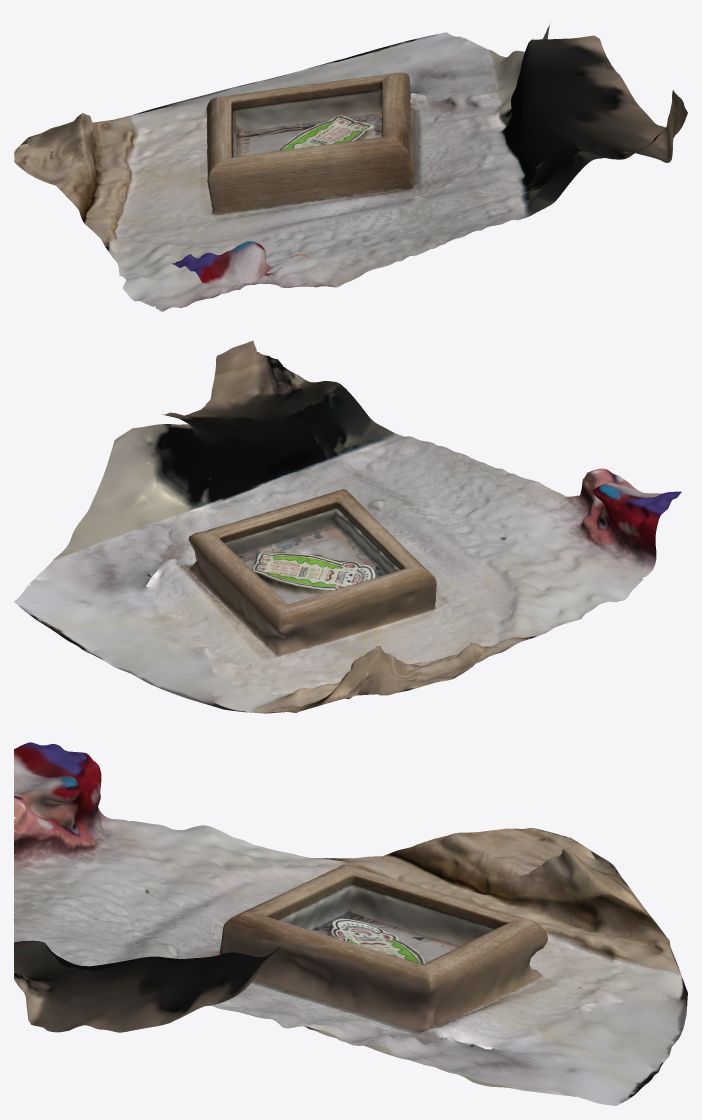
The picture shows the model from 3 angles, top to bottom: view 1: azimuth 30°, elevation 25°; view 2: azimuth 150°, elevation 25°; view 3: azimuth 270°, elevation 25°; orthographic projection. The views are drawn at different scales.
Bounding box in the file's own units: 2.17 × 0.5951 × 2.14.
1 material, 1 textured.
